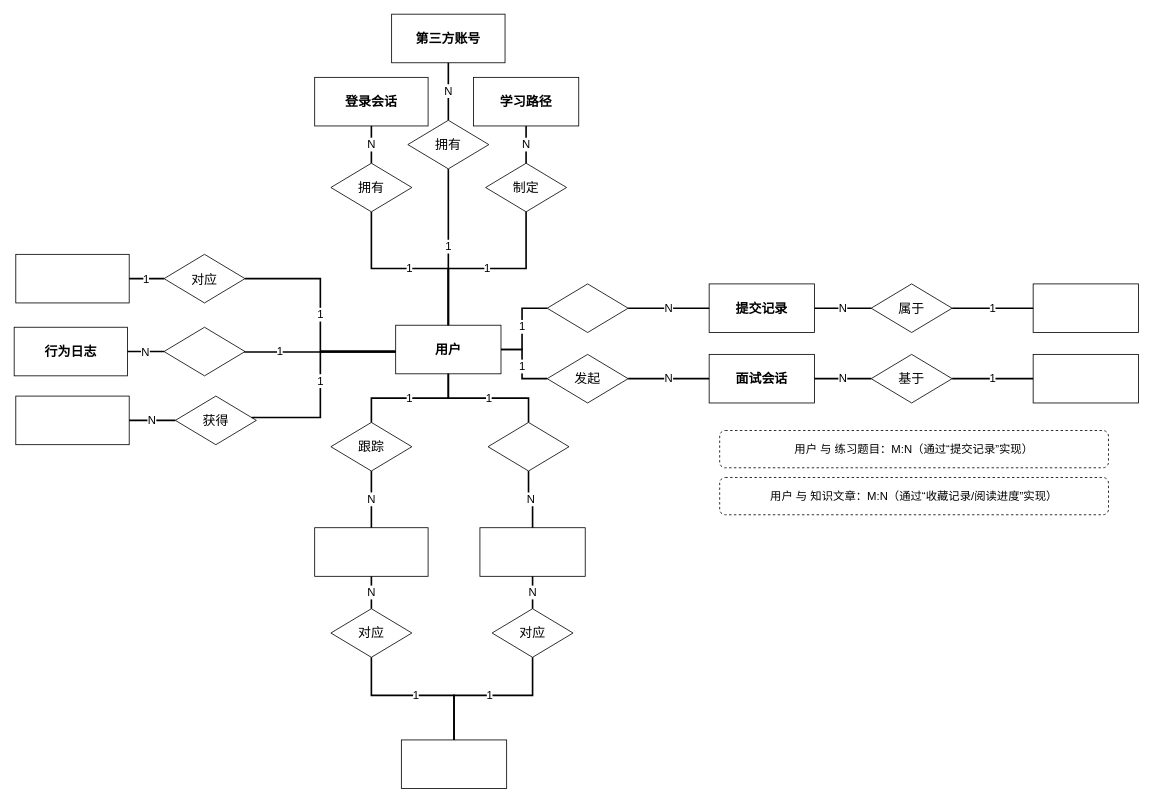
Some shapes in this 1153 by 803 pixel diagram are drawn without their labels. Each missing label, with the centre of its shape:
"产生" belongs at [204,351].
"提交" belongs at [587,308].
"收藏" belongs at [528,446].
"收藏记录" belongs at [532,551].
"用户成就" belongs at [72,420].
"知识文章" belongs at [454,764].
"练习题目" belongs at [1085,308].
"能力雷达" belongs at [72,278].
"阅读进度" belongs at [371,551].
"面试模板" belongs at [1085,378].
